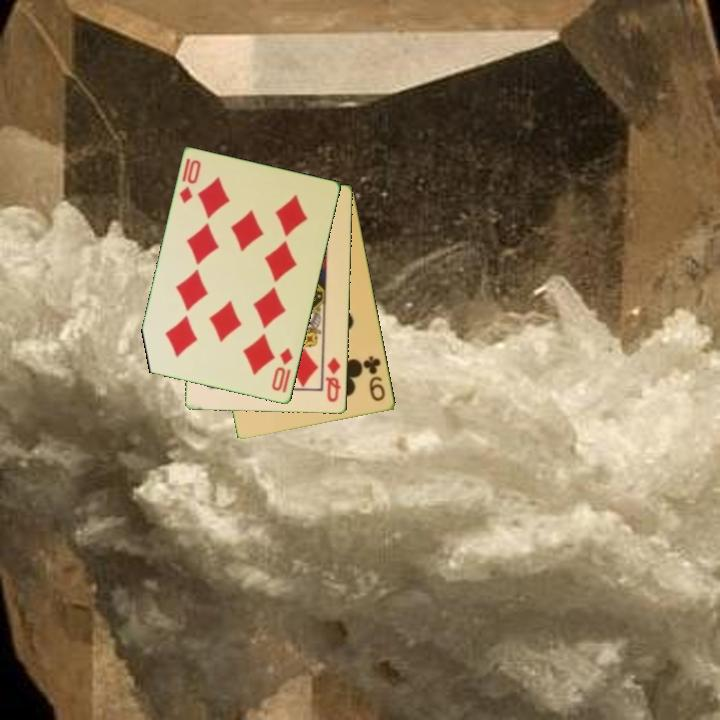10d: (176, 156, 204, 207), (268, 345, 296, 394)
9c: (360, 353, 389, 404)
Qd: (322, 354, 344, 405)
